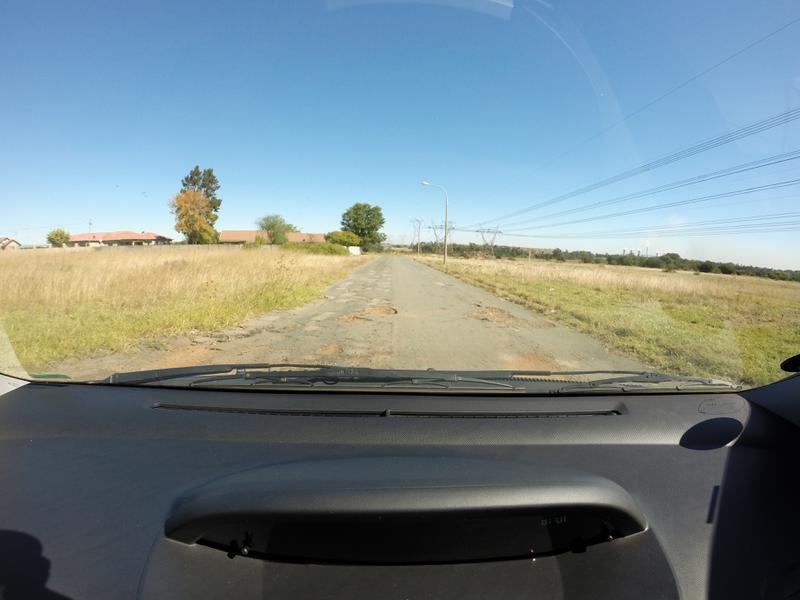pothole: (295, 336, 399, 362), (221, 308, 295, 340), (468, 310, 549, 332), (490, 350, 577, 367), (153, 346, 220, 363), (358, 301, 397, 318), (335, 310, 360, 327), (467, 298, 485, 308)
